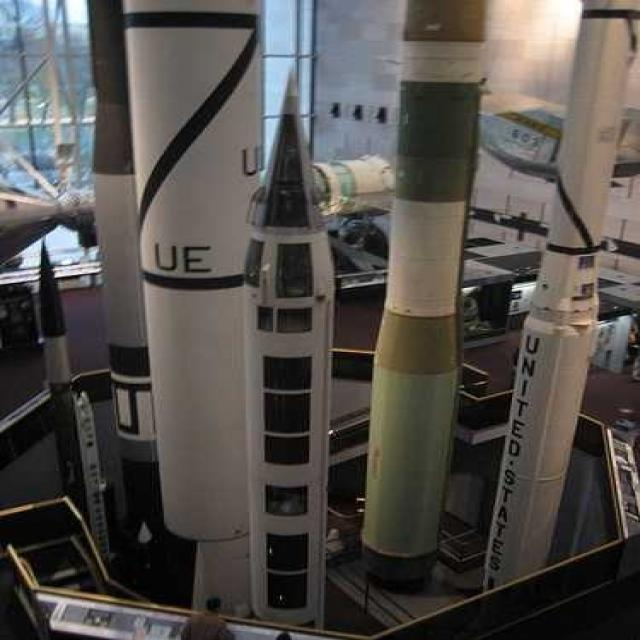missile: (120, 0, 282, 604), (345, 0, 504, 599), (502, 1, 606, 580), (245, 58, 338, 623)
